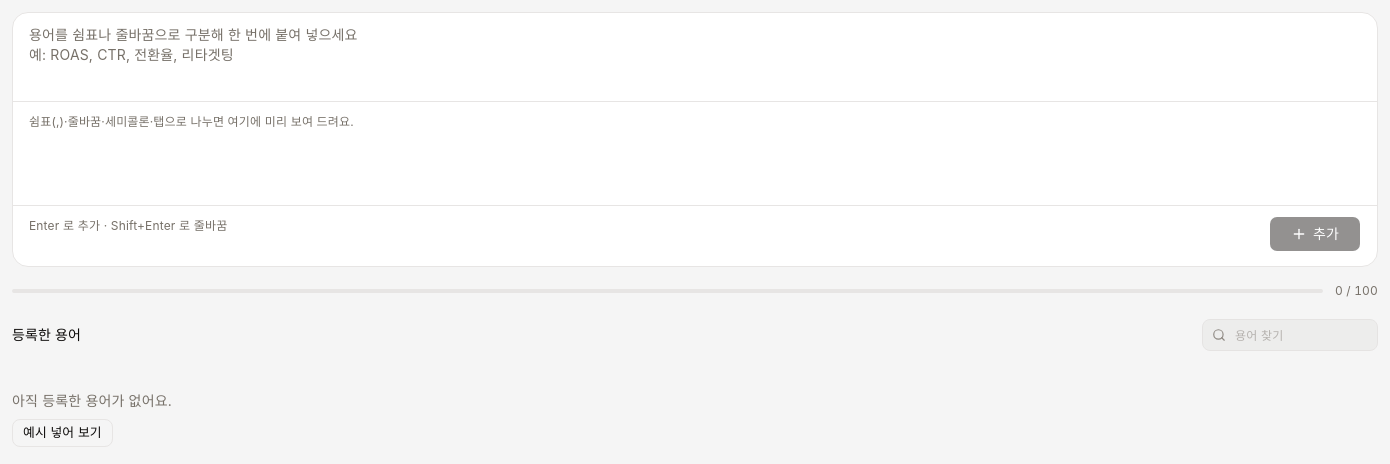
Test: TermEditor 여러 개 한 번에 › 비어 있으면 「예시 넣어 보기」가 예시를 입력란에 넣는다
Click the button "예시 넣어 보기" at point(62, 433), box [12,419,113,447]
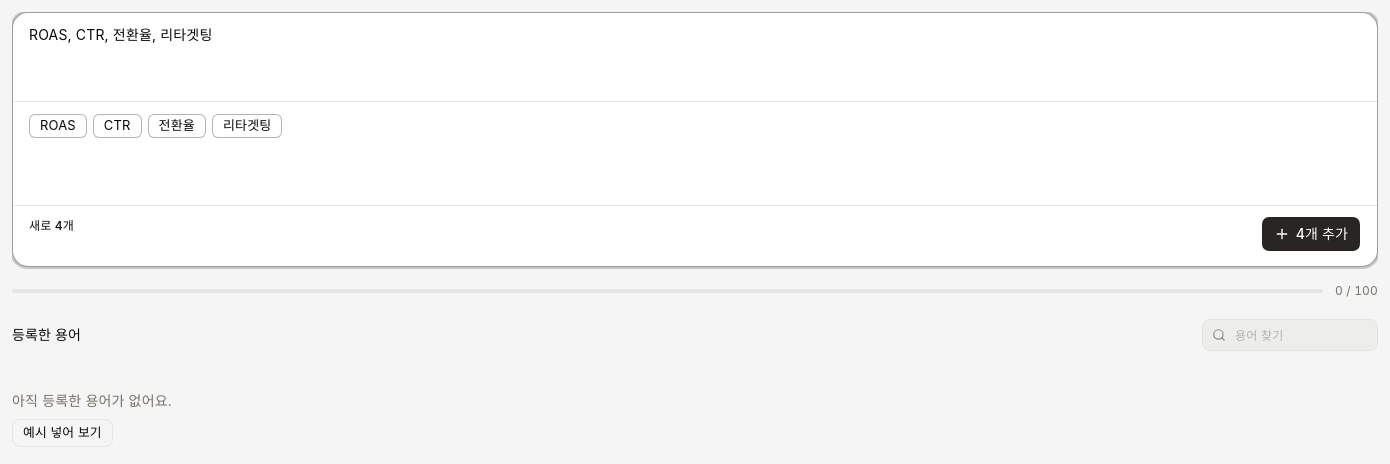
Expected: the text box named "추가할 용어" holds "ROAS, CTR, 전환율, 리타겟팅", [13,13,1377,101]
Expected: the text "새로 4개" is shown, [29,218,74,233]
